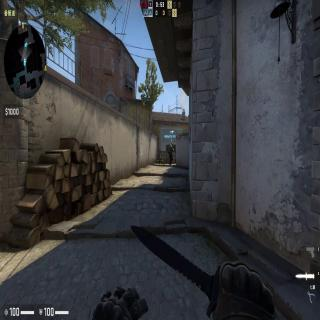CT-Body: (168, 142, 175, 166)
